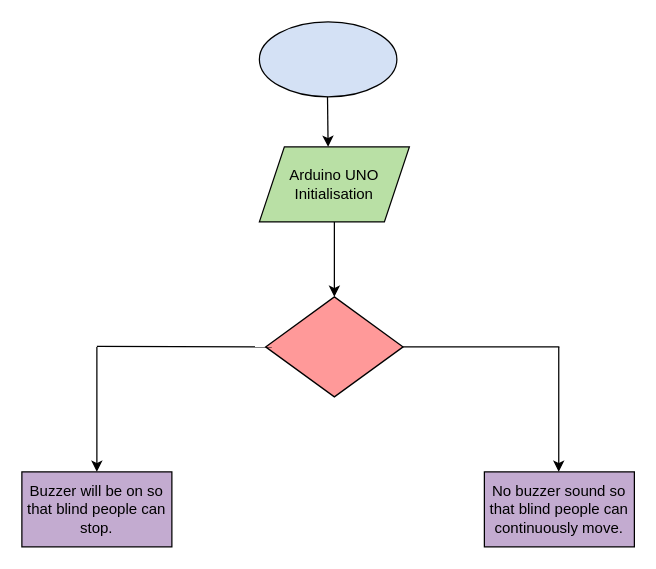
Image size: 656x569. Some labels were removed from this diagram. The shapes that lost their labels are listed below. From the top down, each one's centre as x and y in pixels, then its label:
point (327, 59): Start
point (333, 346): Ultrasonic sensor
